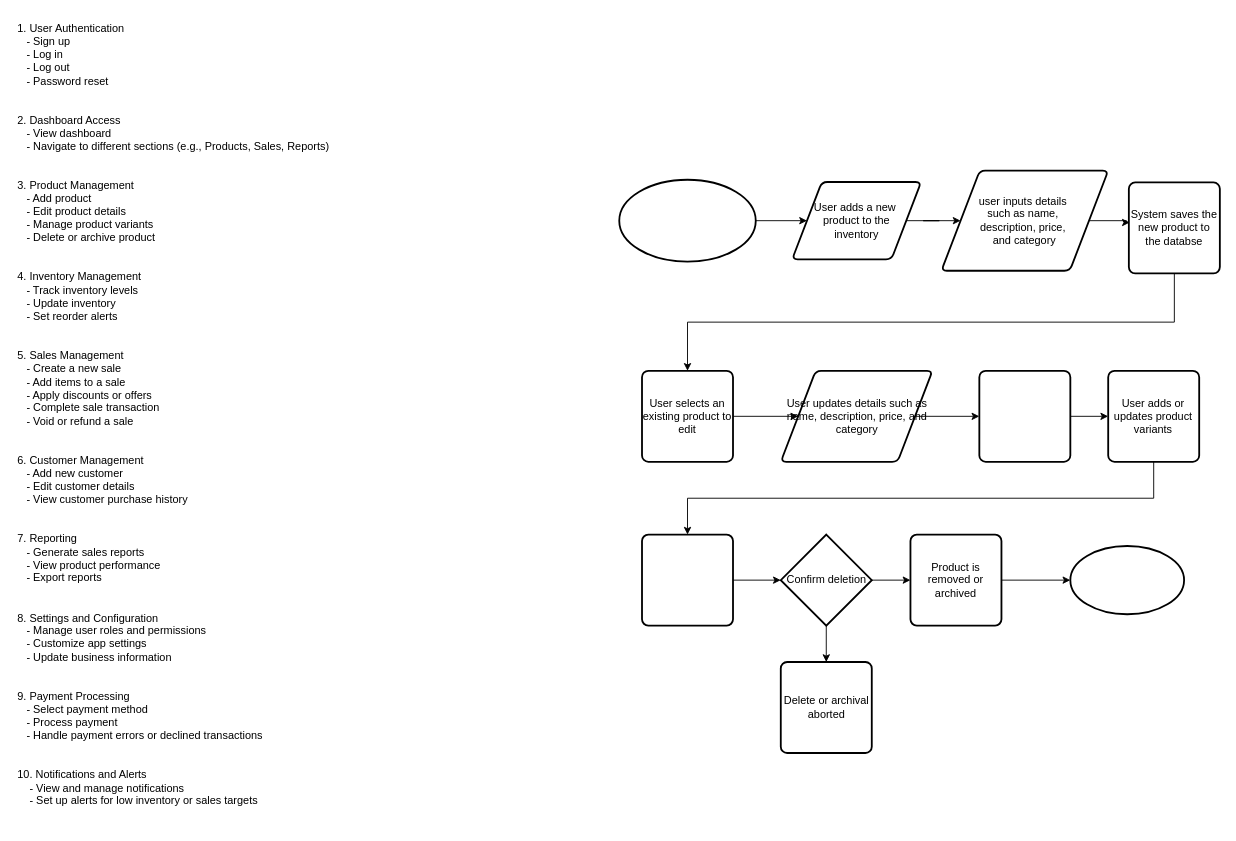
Some shapes in this 1236 by 841 pixel diagram are drawn without their labels. The centre of each missing label's shape, as x and y in pixels:
"User access the product management section" goes at (687,220).
"User completes product management task" goes at (1127,580).
"User deletes or archives a product from the inventory" goes at (687,579).
"User saves the updated product details" goes at (1024,415).
